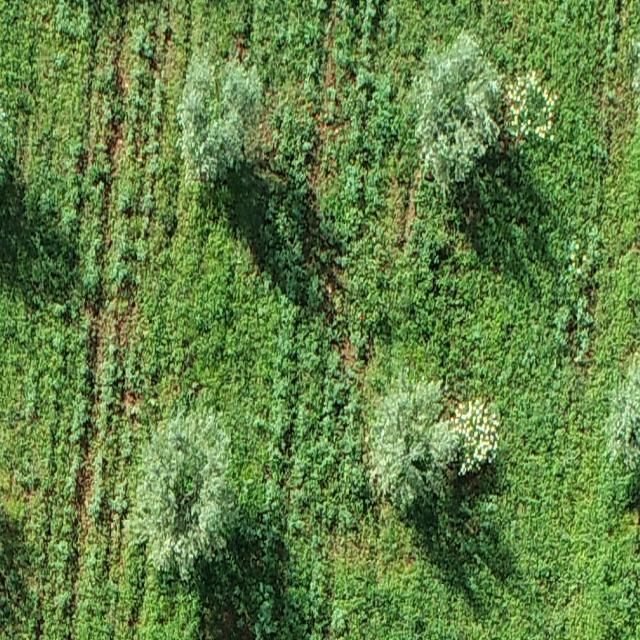olivier: (125, 412, 236, 580), (416, 33, 502, 193), (368, 373, 458, 510), (178, 56, 261, 181), (607, 353, 640, 470)
